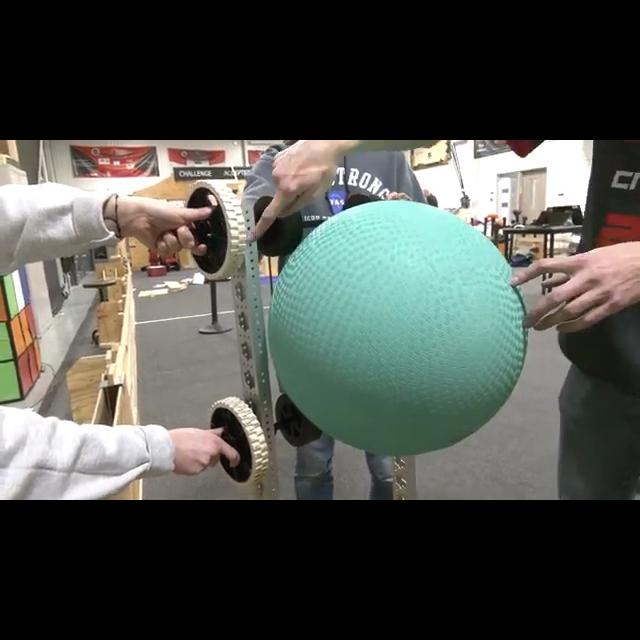ALGAE: (266, 198, 530, 456)
